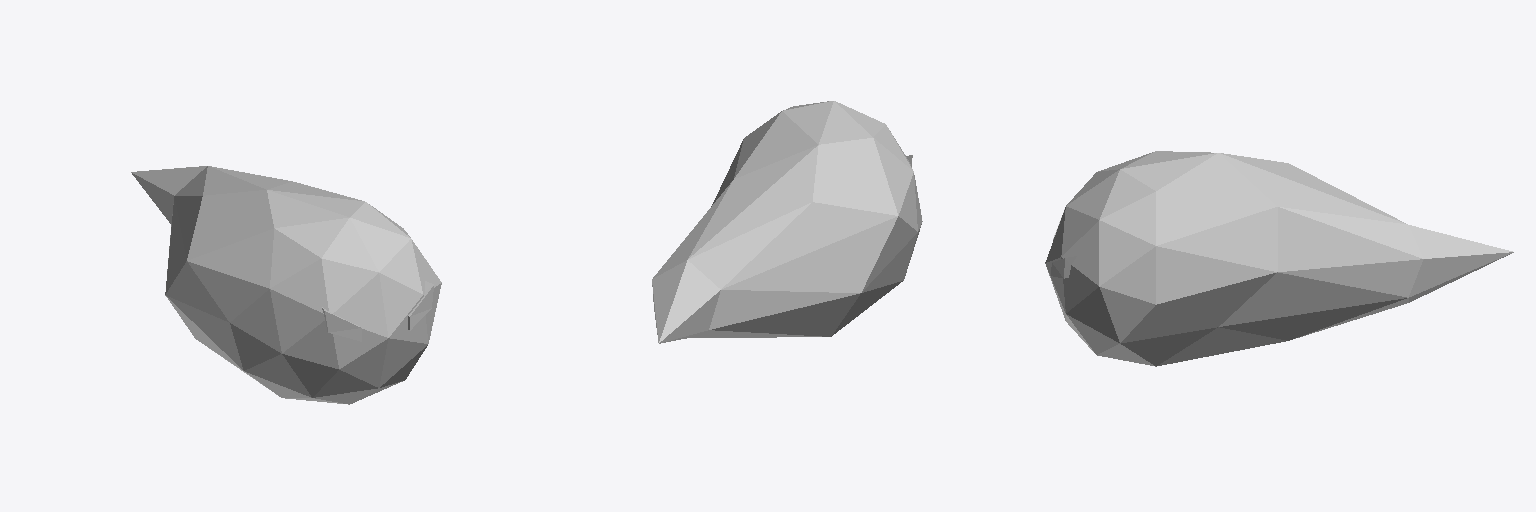
File: eel10.obj
3 views of the same model, side by side, from view 1: azimuth 30°, elevation 25°; view 2: azimuth 150°, elevation 25°; view 3: azimuth 270°, elevation 25° (orthographic).
Visible parts, largest first — view 1: Icosphere; view 2: Icosphere; view 3: Icosphere.
Part boxes in pixels (bbox=[...]): Icosphere: bbox=[131, 166, 441, 404]; Icosphere: bbox=[652, 101, 922, 343]; Icosphere: bbox=[1045, 151, 1513, 366].
Bounding box in the file's own units: 2.13 × 1.9 × 4.33.